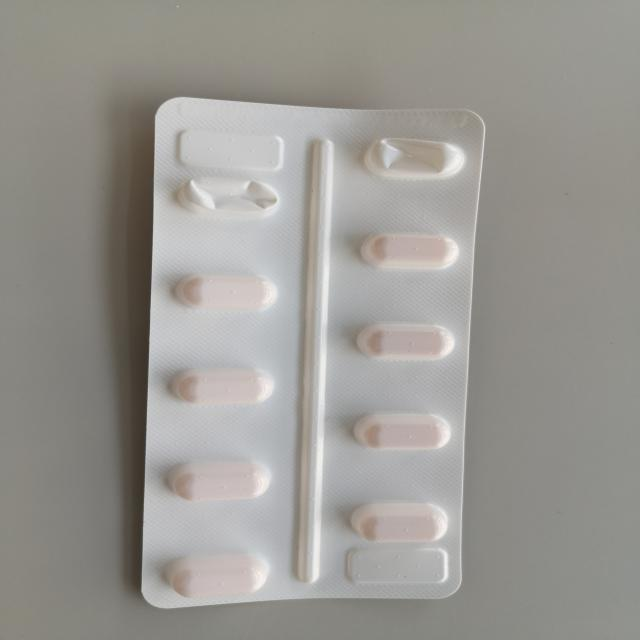Empty: (354, 132, 468, 184), (170, 170, 284, 219)
Pill: (158, 550, 276, 601), (167, 269, 286, 317), (163, 454, 272, 506), (344, 406, 458, 454), (344, 496, 451, 547), (350, 227, 466, 274), (166, 362, 276, 409), (349, 318, 460, 364)
